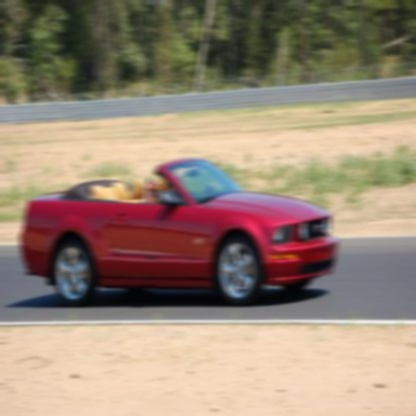Vehicle: (17, 154, 340, 309)
